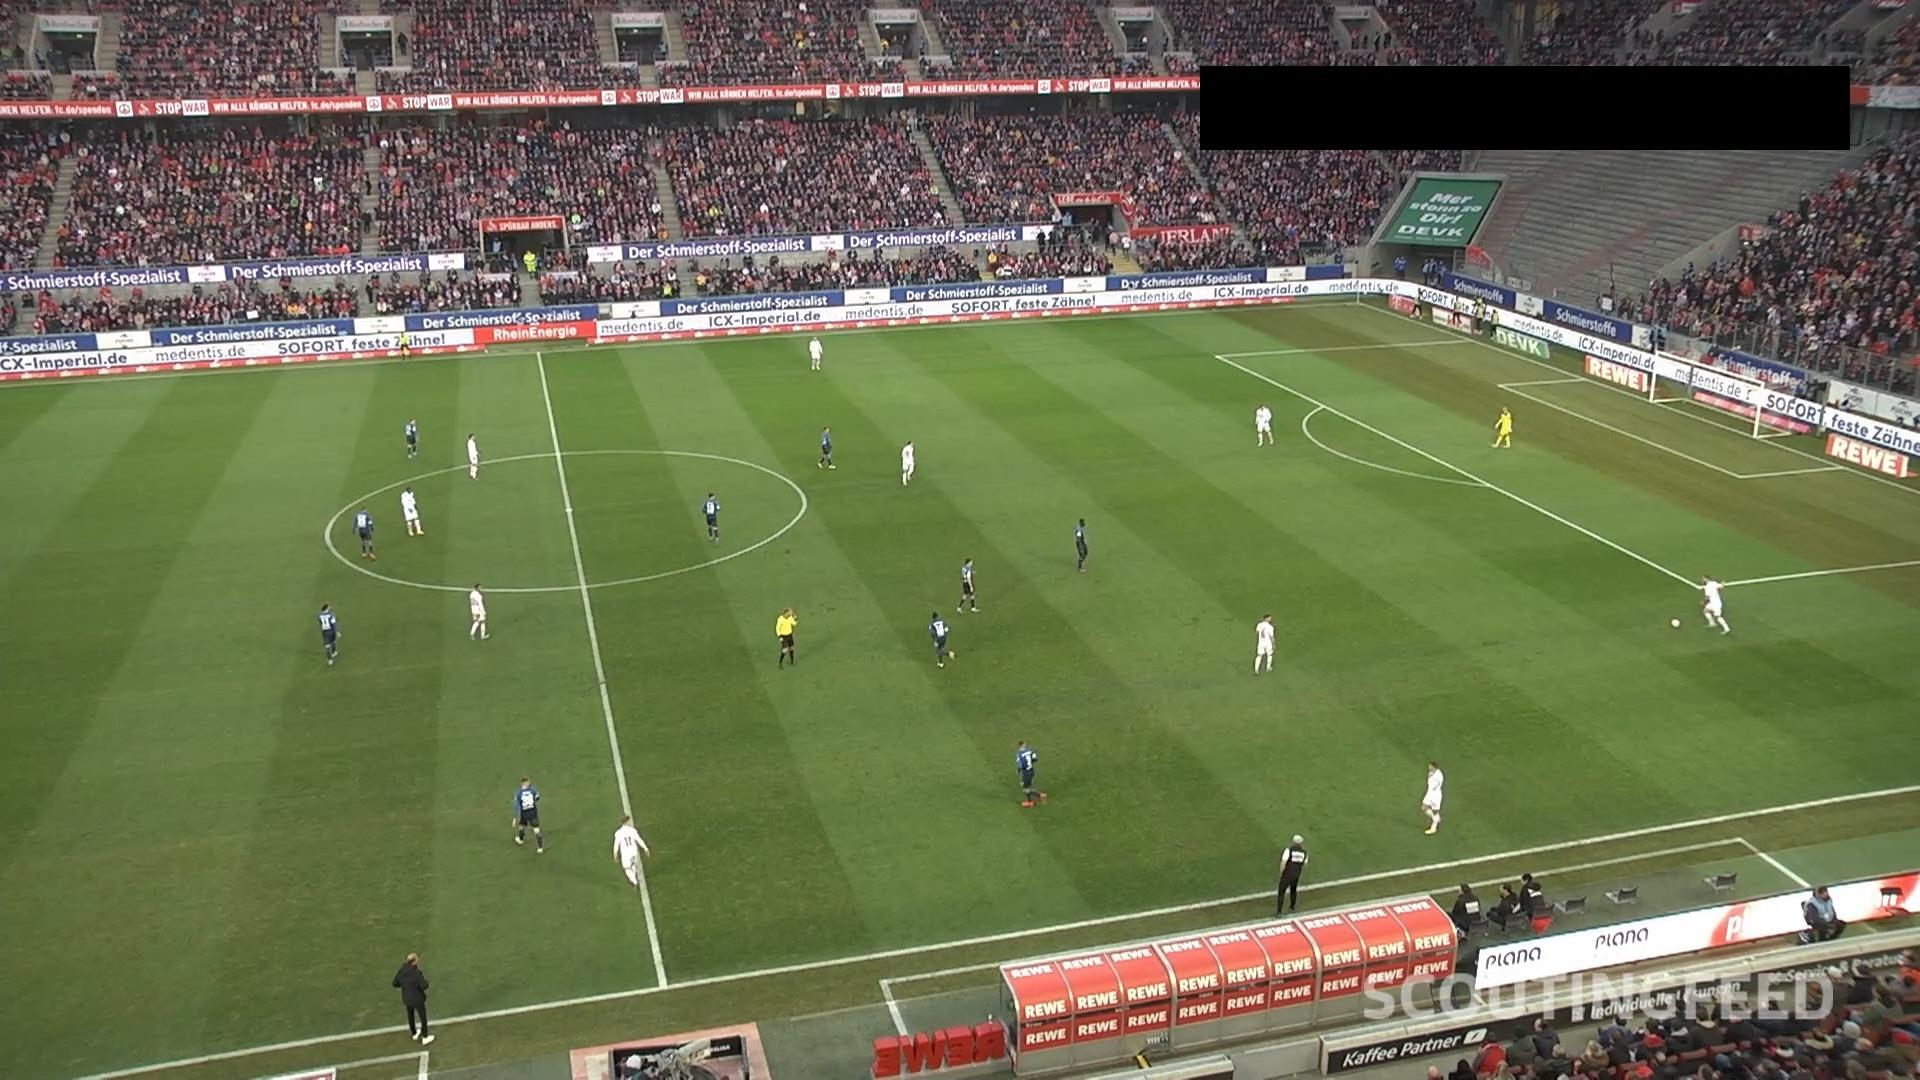ball: (1669, 617, 1681, 629)
